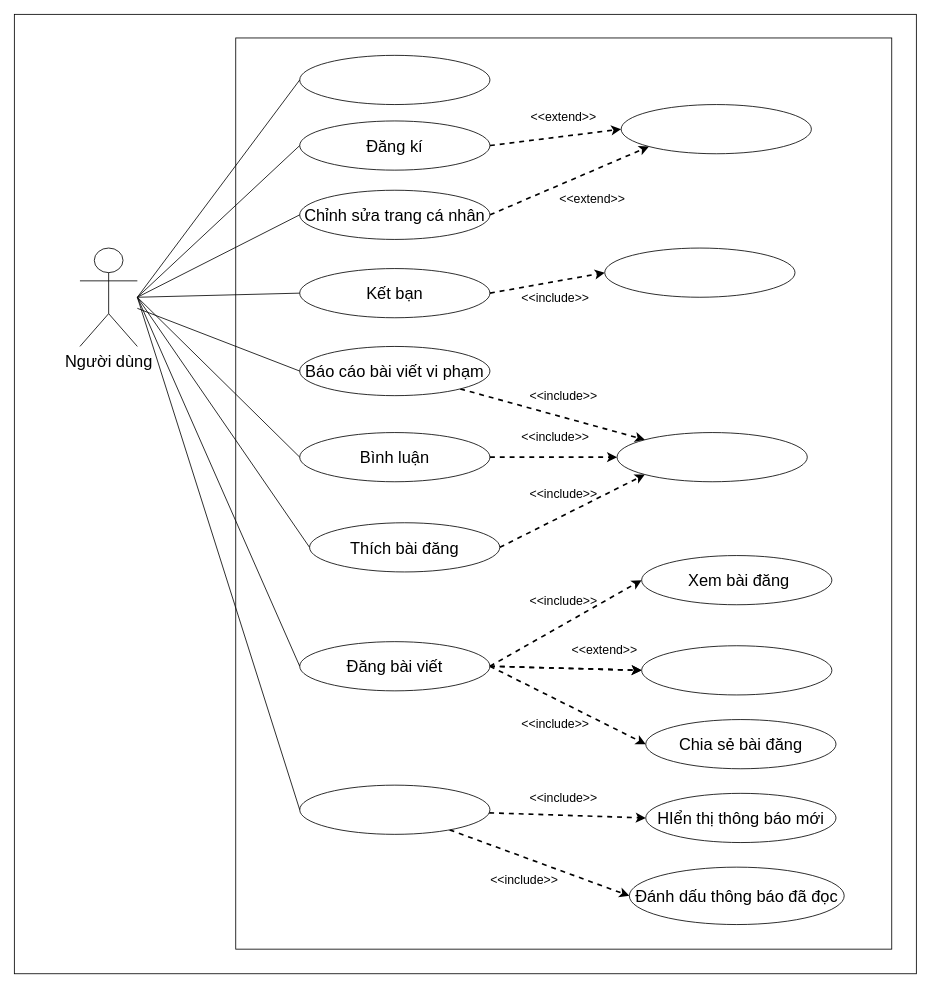
Image size: 931x988. Some labels were removed from this diagram. Here are the shapes that lost their labels. From the top down, the box of each, then its label:
(299, 55, 490, 105): Đăng nhập
(620, 104, 811, 154): Nhập thông tin cá nhân
(604, 247, 795, 297): Tìm kiếm người dùng
(616, 432, 807, 482): Tìm kiếm bài đăng
(641, 645, 832, 695): Xóa bài đăng
(299, 784, 490, 834): Thông báo
